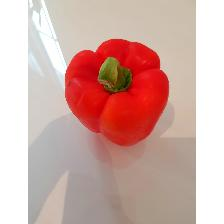Paprika: (60, 32, 172, 150)
